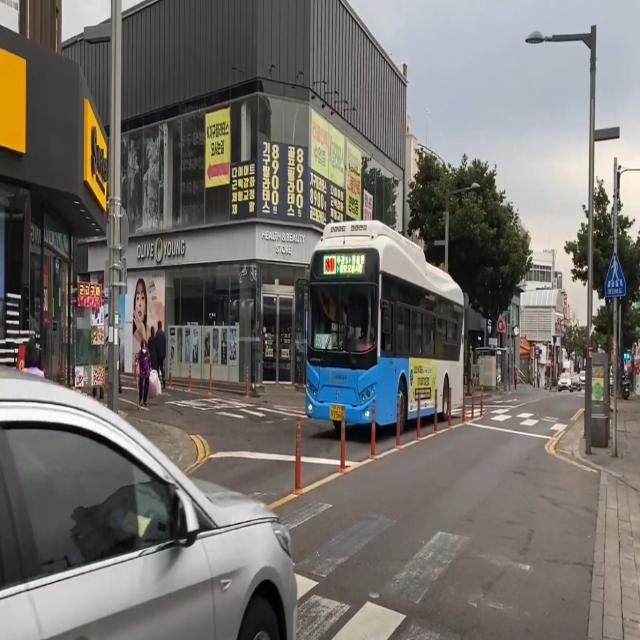bus-number: (324, 257, 336, 273)
